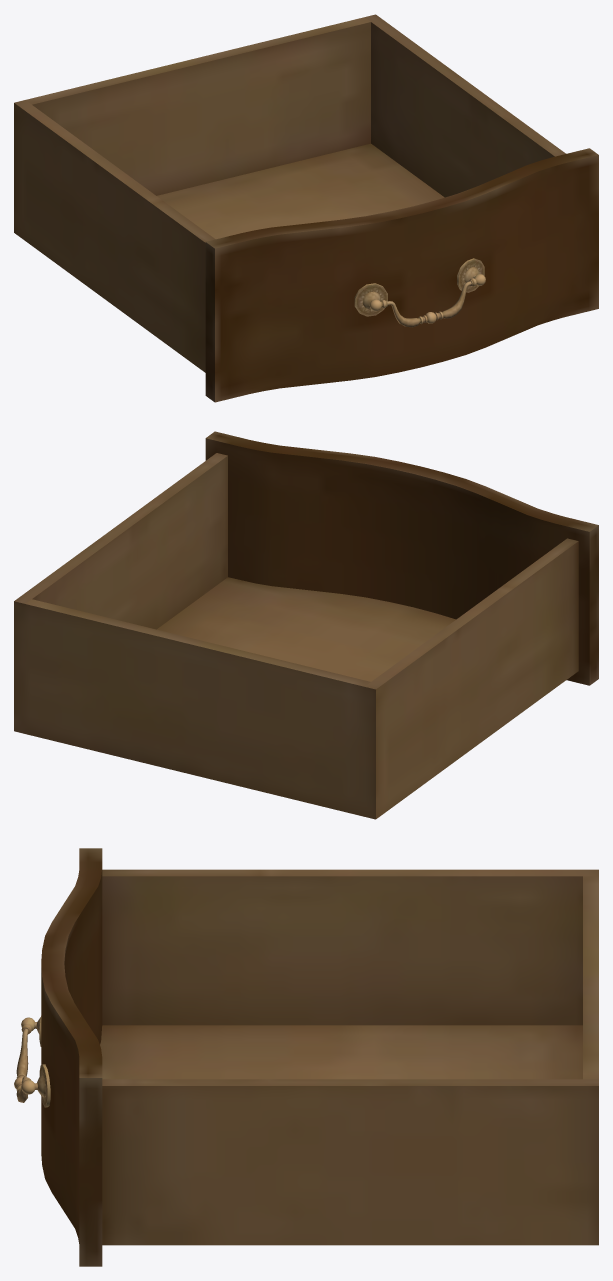
Rendered from SM_bedside_table_drawer_01_f6bfb9.glb.
3 renders of one model, top to bottom at view 1: azimuth 30°, elevation 25°; view 2: azimuth 150°, elevation 25°; view 3: azimuth 270°, elevation 25°, orthographic. The views are drawn at different scales.
Size of the model in its own units: 0.3377 by 0.1293 by 0.3636.
Materials: 1 (1 with a texture image).
